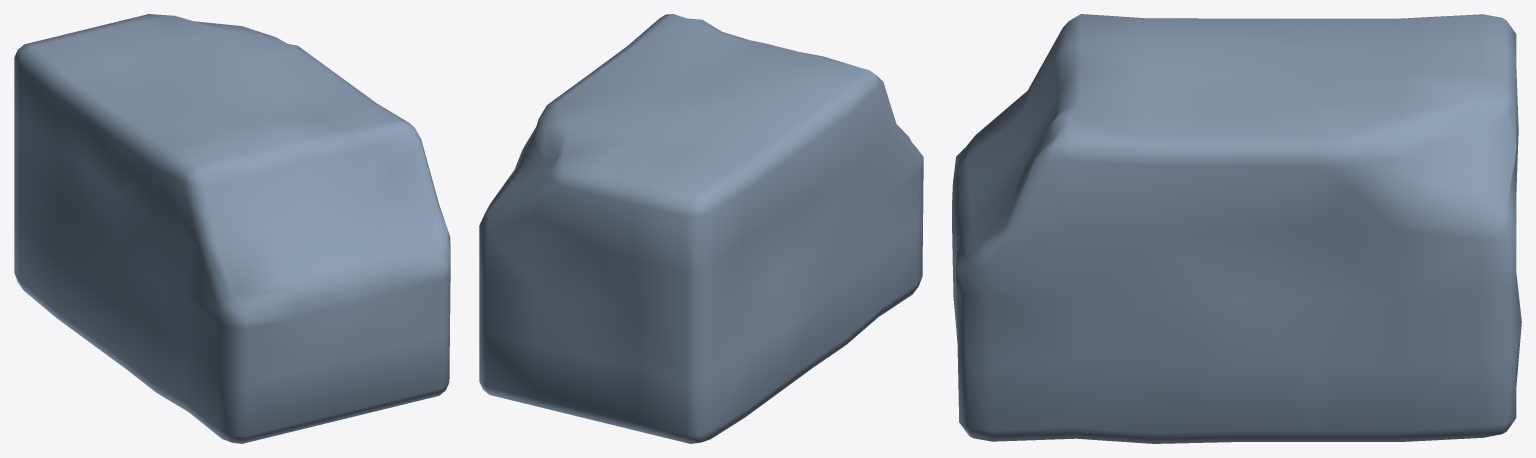
File: bricks-2.dae
The picture shows the model from 3 angles, left to right: view 1: azimuth 30°, elevation 25°; view 2: azimuth 150°, elevation 25°; view 3: azimuth 270°, elevation 25°; orthographic projection. The views are drawn at different scales.
Parts seen in each view (by area): view 1: Cube.001; view 2: Cube.001; view 3: Cube.001.
Boxes of the visible parts, x1,y1,x2,y2 form: Cube.001: [14, 14, 450, 443]; Cube.001: [479, 14, 923, 443]; Cube.001: [952, 14, 1521, 443].
Bounding box in the file's own units: 0.4758 × 0.8153 × 0.5033.
